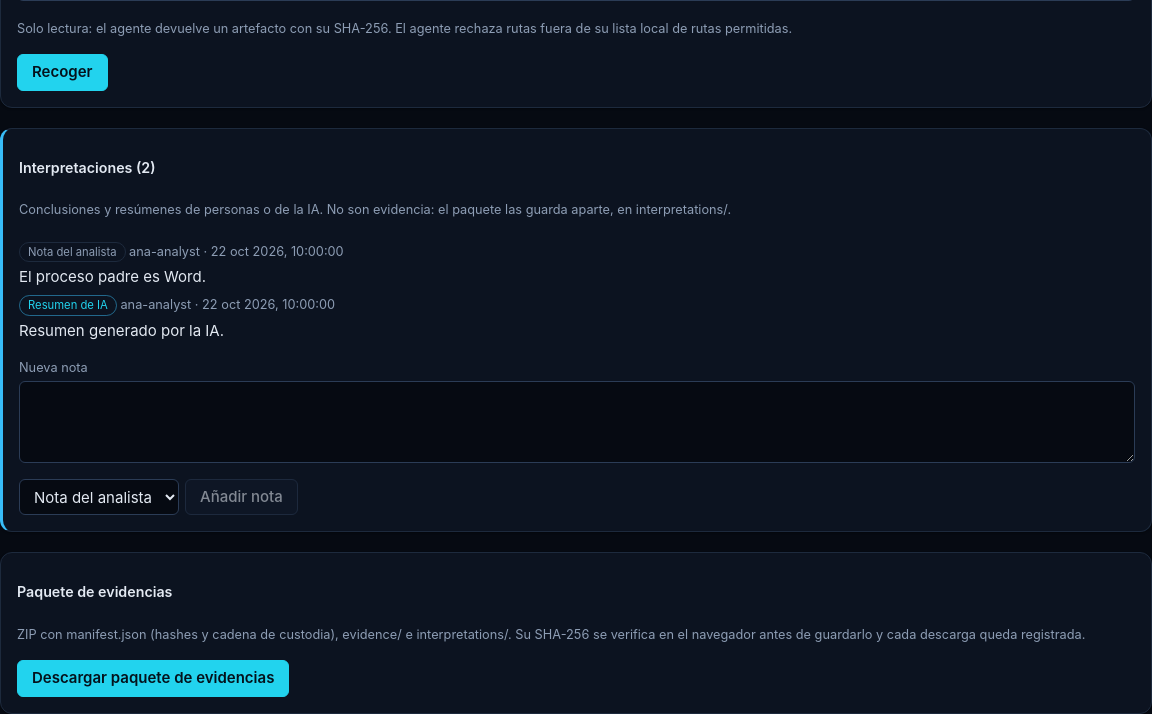
Test: InvestigationDetailPage › falla cerrado si el servidor no envía el SHA-256
The width and height of the screenshot is (1152, 714).
(page scrolled)
Click the button "Descargar paquete de evidencias" at point(153, 679), box [17, 660, 289, 697]
(page scrolled)
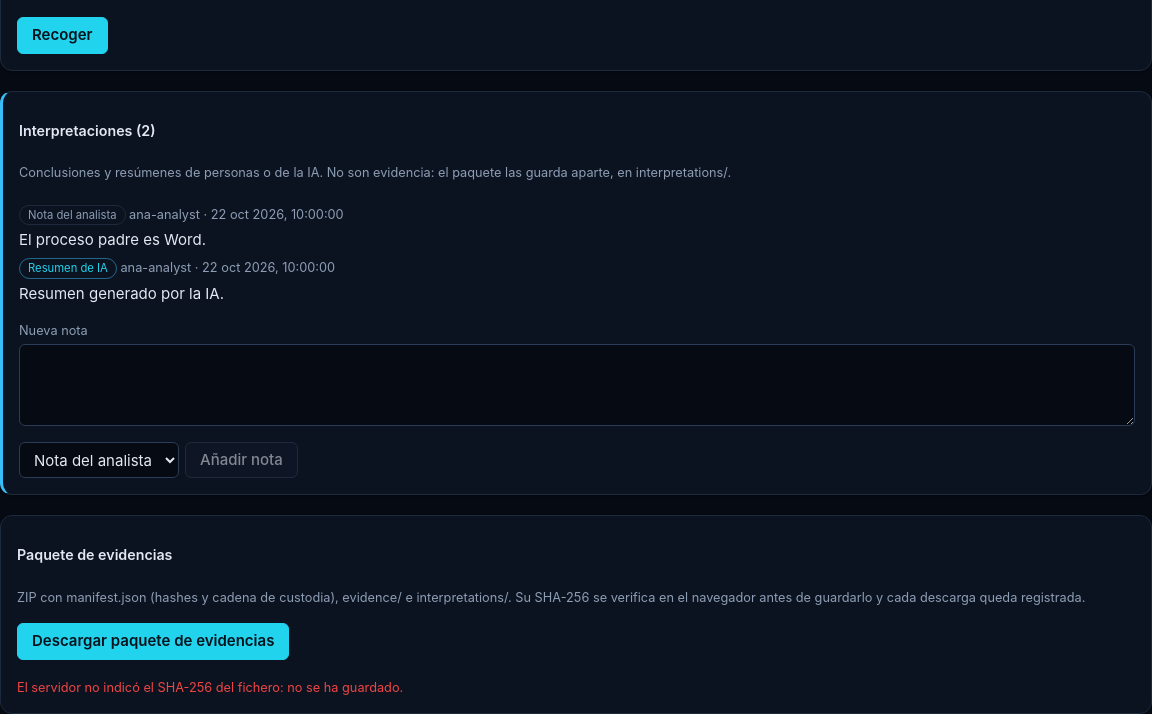
Result: the text "El servidor no indicó el SHA-256 del fichero: no se ha guardado." is shown at [17, 680, 403, 695]
